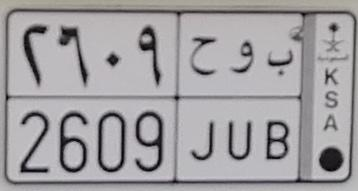0: (95, 51, 128, 174)
2: (18, 23, 51, 174)
6: (57, 24, 91, 173)
9: (133, 24, 165, 173)
B: (264, 48, 296, 162)
J: (189, 35, 217, 162)
U: (228, 38, 254, 161)
